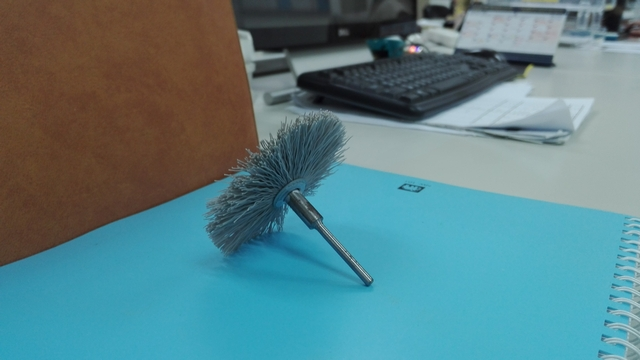TOOL: (179, 95, 416, 294)
